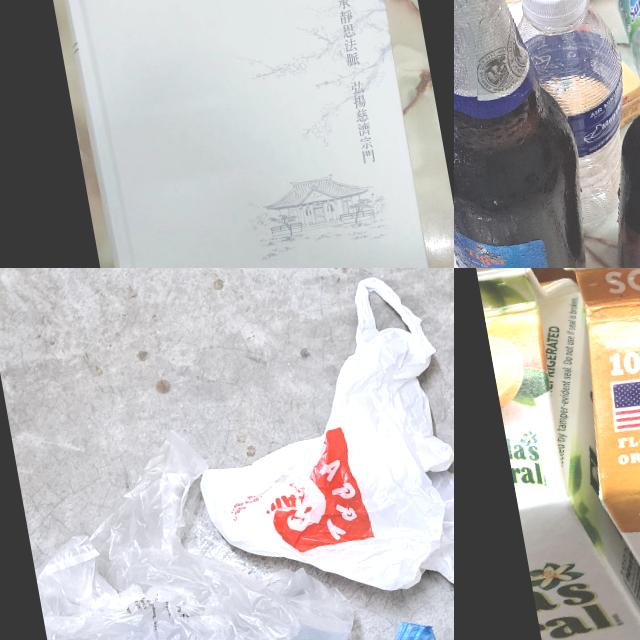caixinha: (471, 268, 640, 640), (550, 268, 640, 640)
garrafa de vidro: (454, 0, 606, 268), (574, 9, 640, 268)
garrafa plástica: (514, 0, 640, 236), (454, 185, 616, 268)
papel: (57, 0, 436, 268)
sacola plástica: (168, 268, 454, 626), (16, 411, 365, 640)
tampa plástica: (511, 0, 594, 30)
